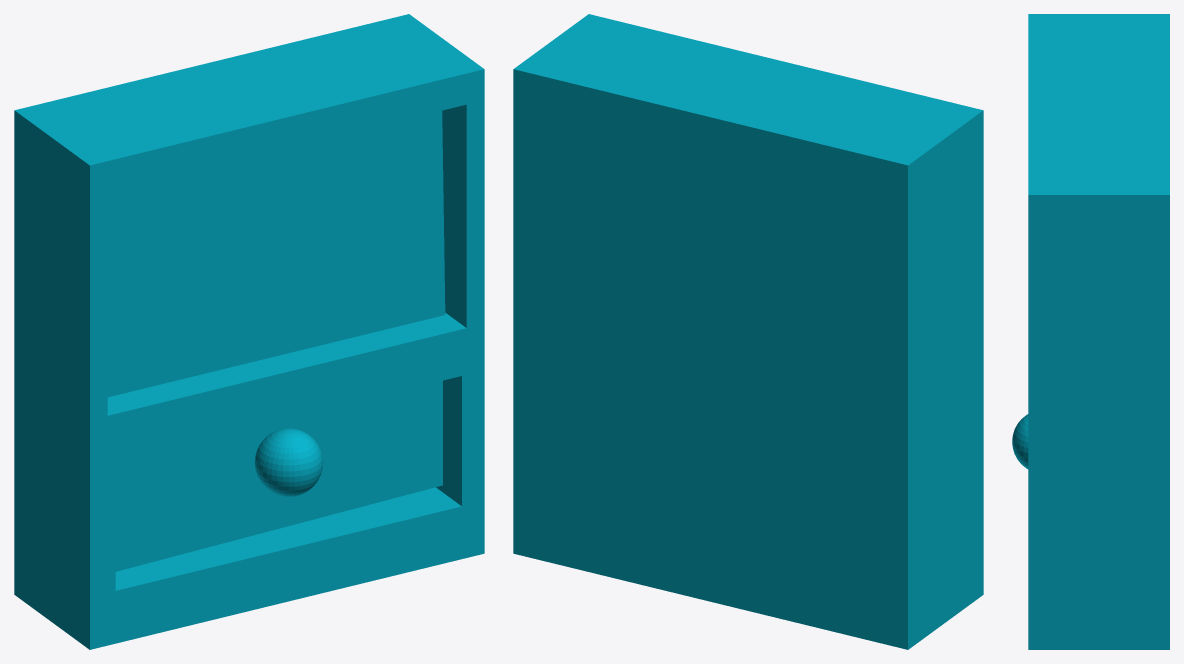
File: side table 2.glb
3 views of the same model, side by side, from view 1: azimuth 30°, elevation 25°; view 2: azimuth 150°, elevation 25°; view 3: azimuth 270°, elevation 25° (orthographic). The views are drawn at different scales.
Parts seen in each view (by area): view 1: Mesh_Mesh_head_geo.001_lambert2SG.001; view 2: Mesh_Mesh_head_geo.001_lambert2SG.001; view 3: Mesh_Mesh_head_geo.001_lambert2SG.001.
Part boxes in pixels (x1,y1,x2,y2): Mesh_Mesh_head_geo.001_lambert2SG.001: [14, 14, 484, 649]; Mesh_Mesh_head_geo.001_lambert2SG.001: [513, 14, 983, 649]; Mesh_Mesh_head_geo.001_lambert2SG.001: [1012, 14, 1169, 649].
Size of the model in its own units: 133 by 156 by 49.
